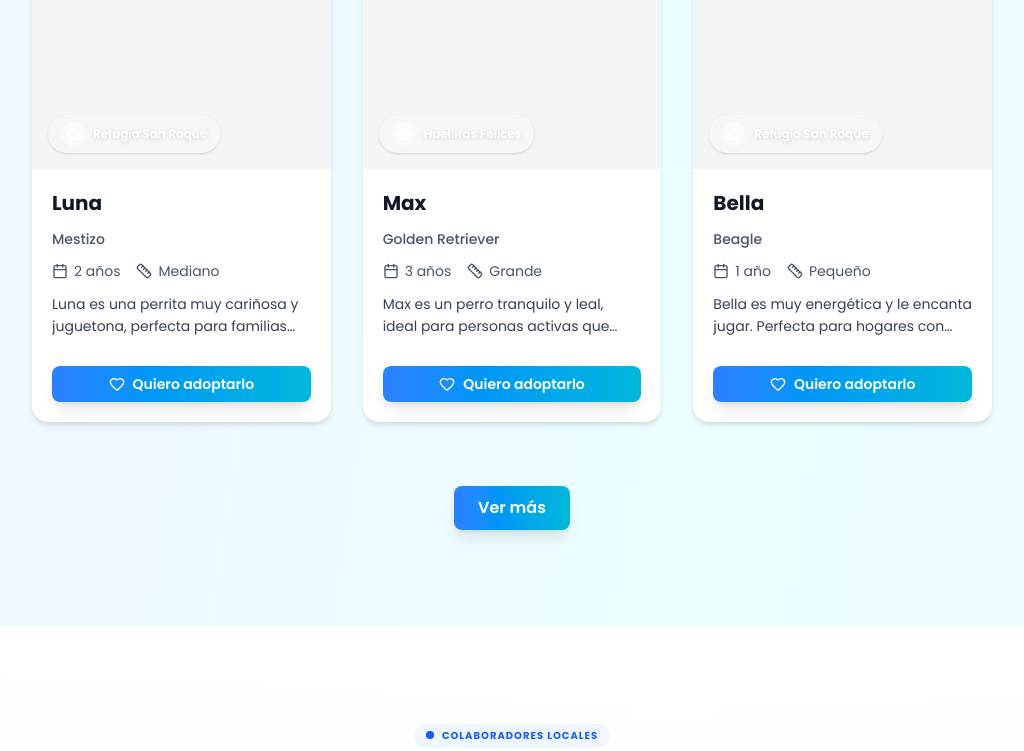
Test case: Home Page › opens modal with correct dog name when different dog cards are clicked
(page scrolled)
// Click the third dog's (Bella) adopt button
Click the button "Quiero adoptarlo" below "1 año" at (843, 384), box [713, 366, 972, 402]
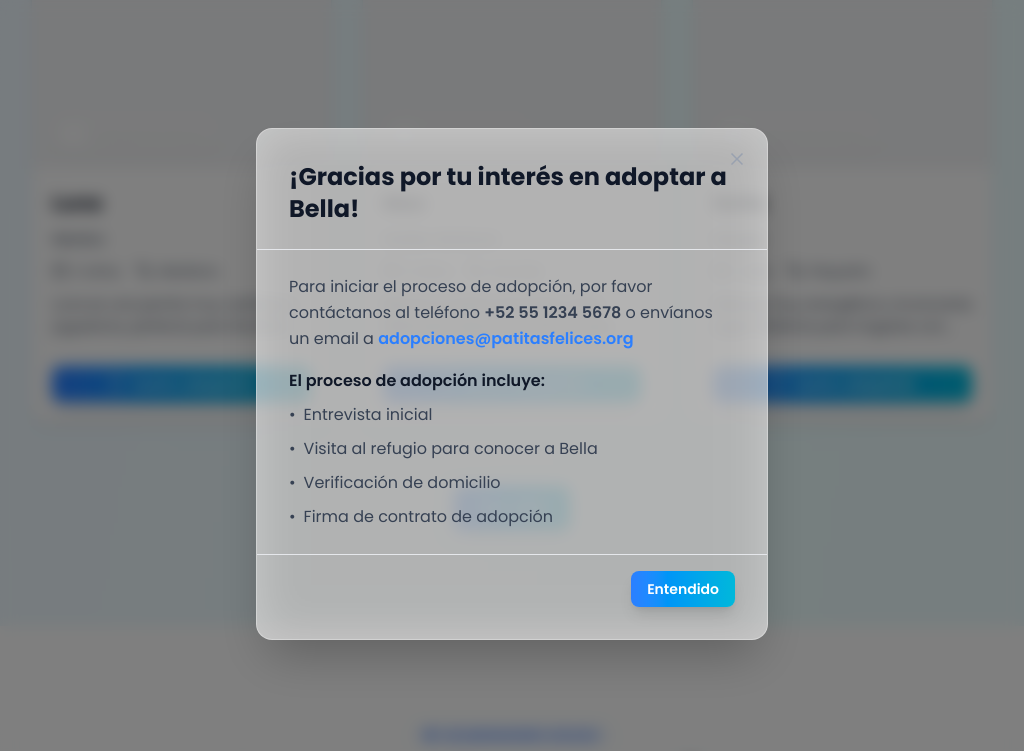
expect the heading "¡Gracias por tu interés en adoptar a Bella!" is shown: met, box [289, 161, 735, 225]
